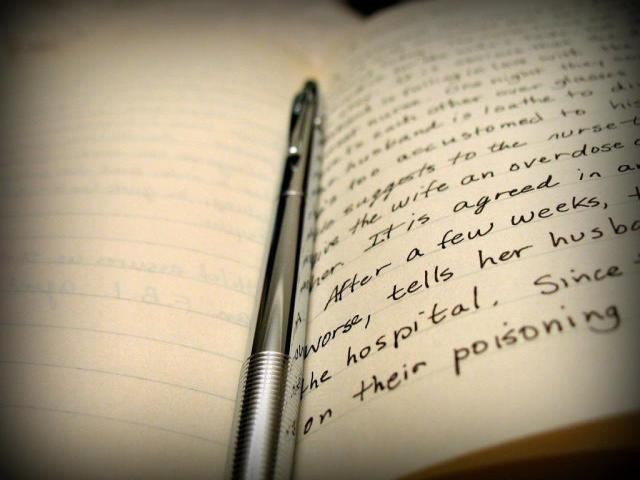PEN: (241, 75, 364, 480)
